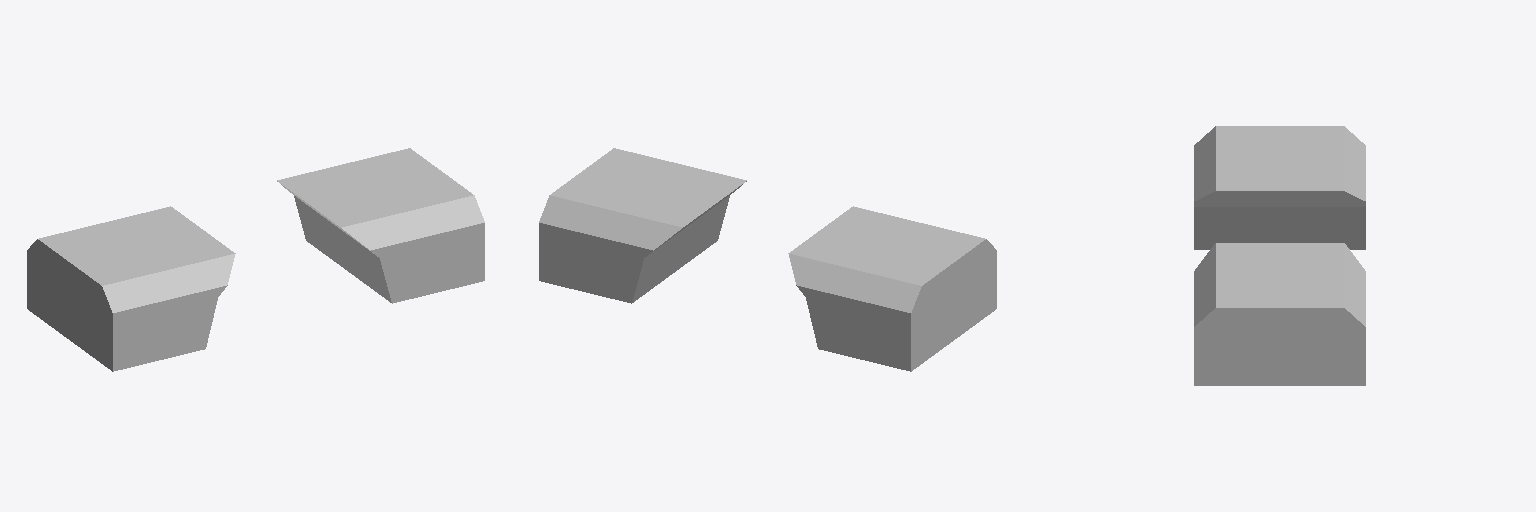
Rendered from struct_wall_sewer_base.obj.
3 renders of one model, left to right at view 1: azimuth 30°, elevation 25°; view 2: azimuth 150°, elevation 25°; view 3: azimuth 270°, elevation 25°, orthographic.
Visible parts, largest first — view 1: struct_wall_sewer_base, struct_wall_sewer_base_2; view 2: struct_wall_sewer_base, struct_wall_sewer_base_2; view 3: struct_wall_sewer_base_2, struct_wall_sewer_base.
Part boxes in pixels (x1,y1,x2,y2): struct_wall_sewer_base: (27,206,235,371); struct_wall_sewer_base_2: (277,148,484,303); struct_wall_sewer_base: (788,206,996,371); struct_wall_sewer_base_2: (539,148,746,303); struct_wall_sewer_base_2: (1194,243,1365,385); struct_wall_sewer_base: (1194,126,1365,249).
Bounding box in the file's own units: 1 × 0.2 × 0.4.